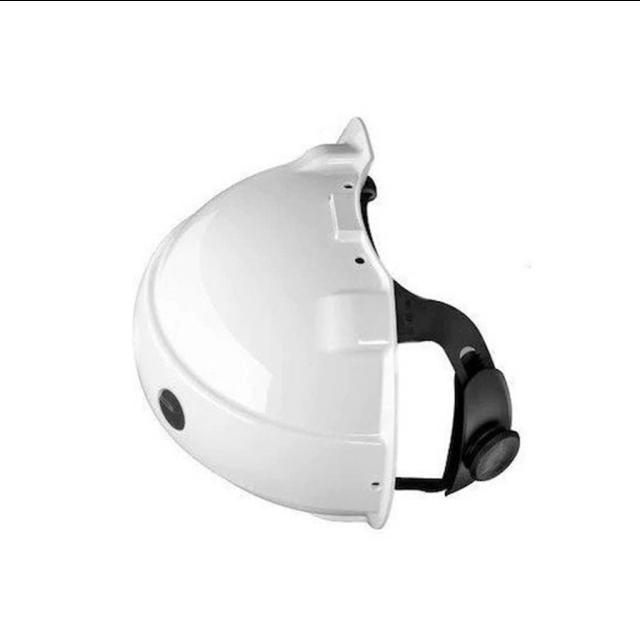construction helmet: (132, 114, 522, 529)
